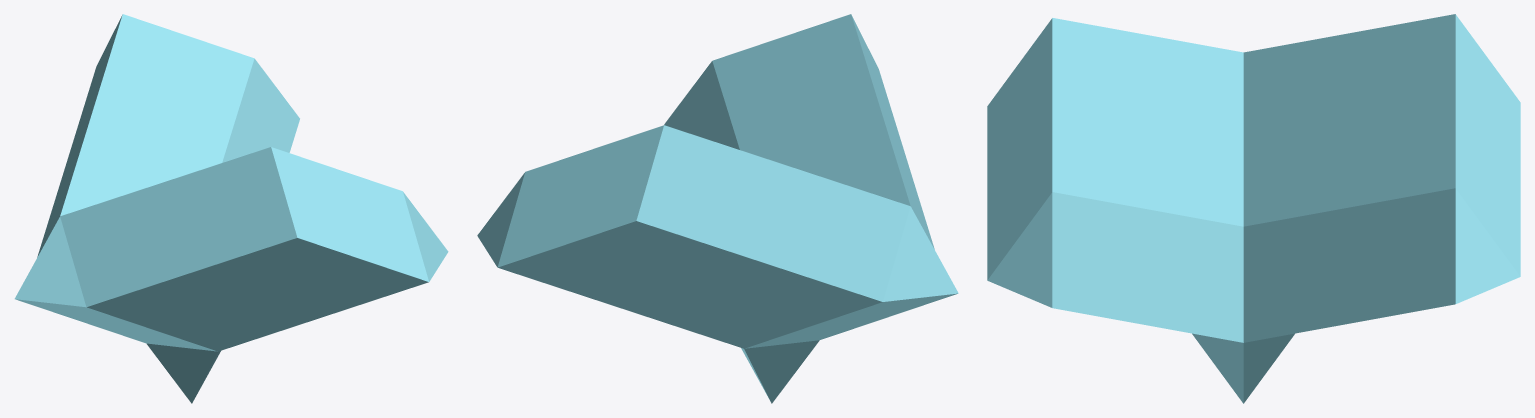
The model's file is crystal.glb.
3 views of the same model, side by side, from view 1: azimuth 30°, elevation 25°; view 2: azimuth 150°, elevation 25°; view 3: azimuth 270°, elevation 25° (orthographic). The views are drawn at different scales.
Visible parts, largest first — view 1: Crystal; view 2: Crystal; view 3: Crystal.
Boxes of the visible parts, x1=… form: Crystal: x1=14, y1=14, x2=448, y2=403; Crystal: x1=477, y1=14, x2=958, y2=403; Crystal: x1=987, y1=14, x2=1520, y2=403.
Size of the model in its own units: 5.1 by 4.25 by 5.13.
